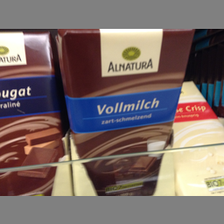chocolate: (59, 29, 196, 192), (1, 32, 62, 196)
